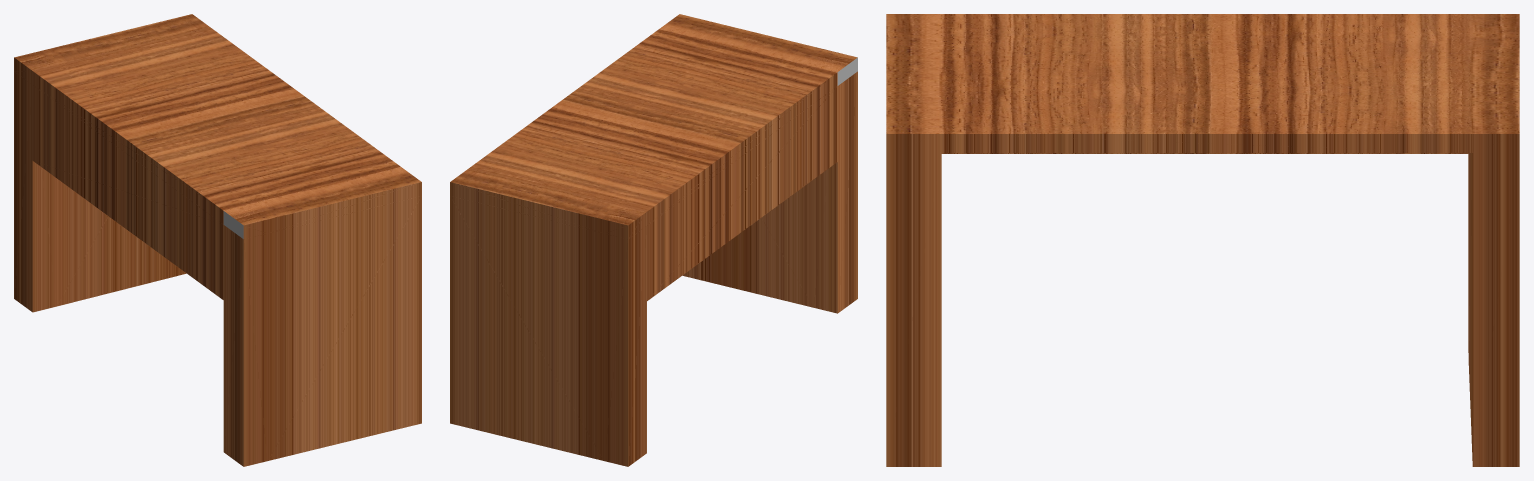
File: Escritorio.fbx
The picture shows the model from 3 angles, left to right: view 1: azimuth 30°, elevation 25°; view 2: azimuth 150°, elevation 25°; view 3: azimuth 270°, elevation 25°; orthographic projection. The views are drawn at different scales.
Visible parts, largest first — view 1: Escritorio; view 2: Escritorio; view 3: Escritorio.
Part boxes in pixels (left/top/right/bottom): Escritorio: left=14, top=14, right=421, bottom=466; Escritorio: left=450, top=14, right=857, bottom=466; Escritorio: left=886, top=14, right=1519, bottom=466.
Bounding box in the file's own units: 62.71 × 81.25 × 140.
